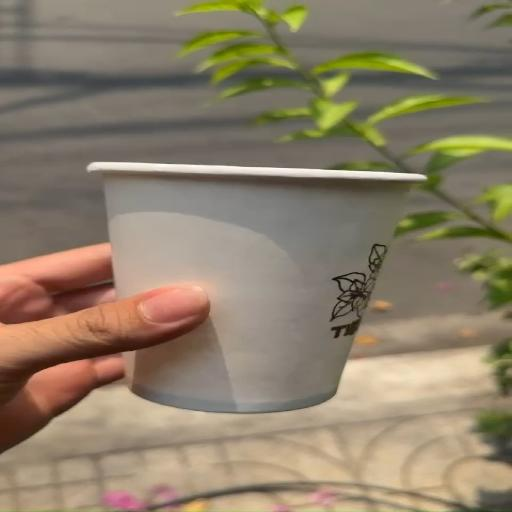Ly_giay: (87, 162, 425, 412)
